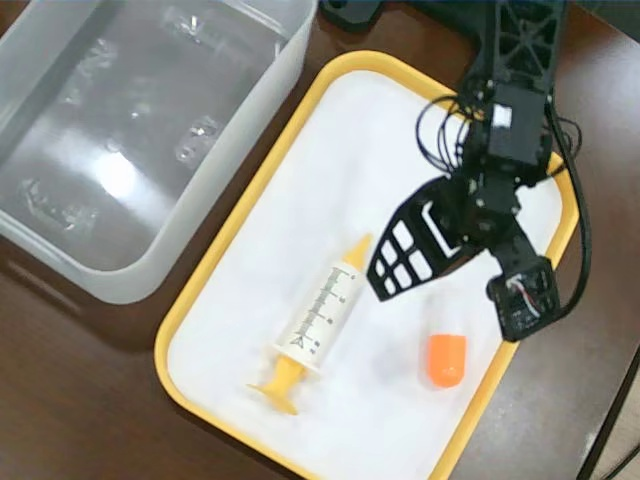pill: (419, 282, 471, 389)
syringe: (248, 229, 374, 419)
